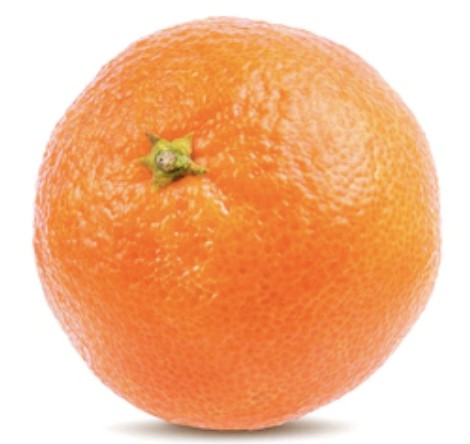fresh_orange: (31, 16, 443, 435)
